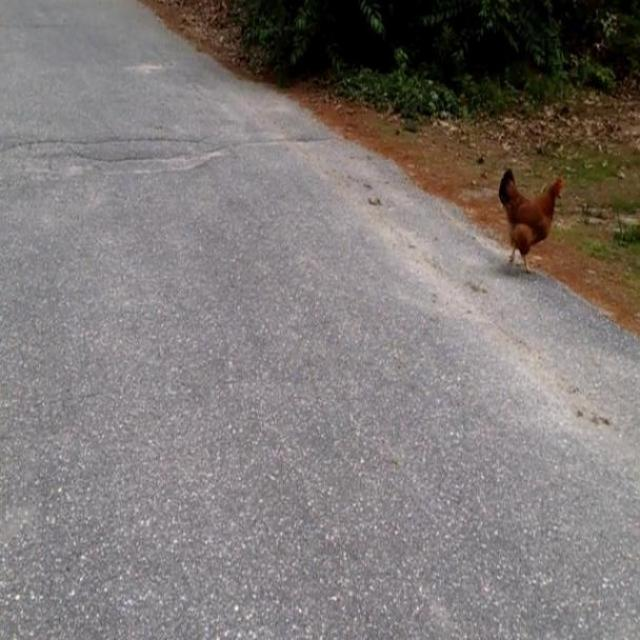Chicken: (499, 168, 563, 276)
